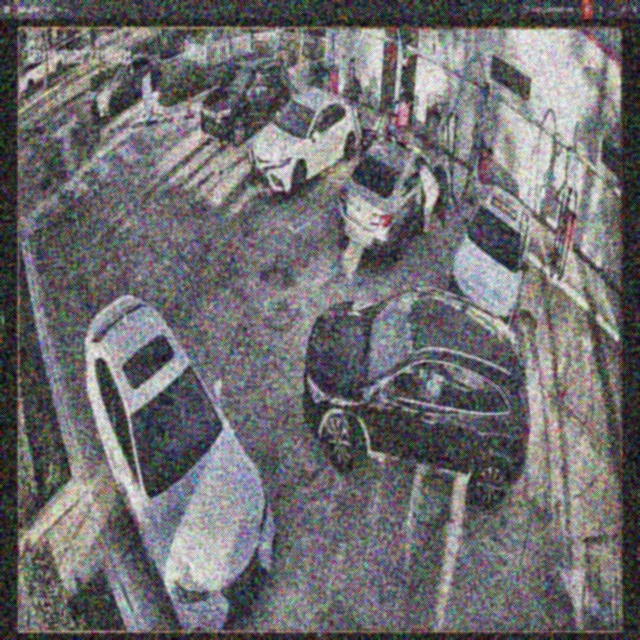Car: (82, 299, 275, 632), (302, 289, 529, 506), (337, 131, 447, 259), (248, 89, 363, 195), (450, 185, 531, 328), (200, 57, 290, 144)
